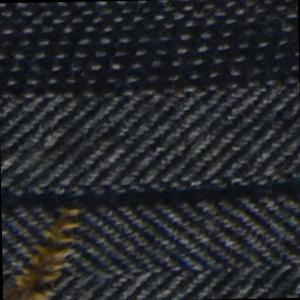Damage: (10, 250, 57, 300)
Oil Stain: (2, 201, 92, 300)
